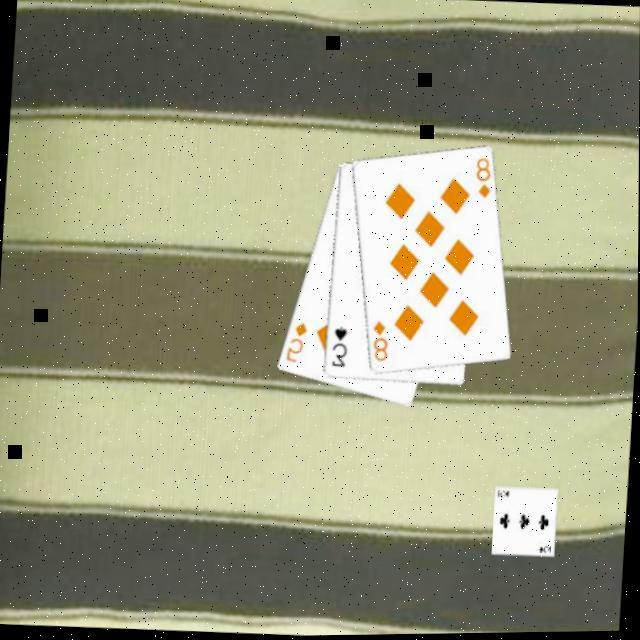3S: (329, 326, 351, 373)
5D: (283, 322, 311, 369)
8D: (369, 320, 393, 367), (472, 158, 495, 205)
